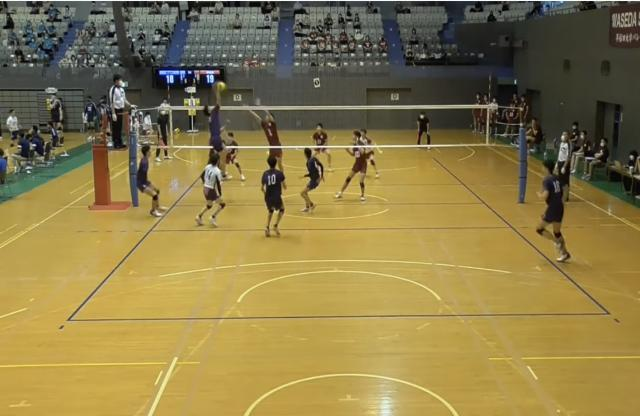spike: (202, 80, 234, 186)
